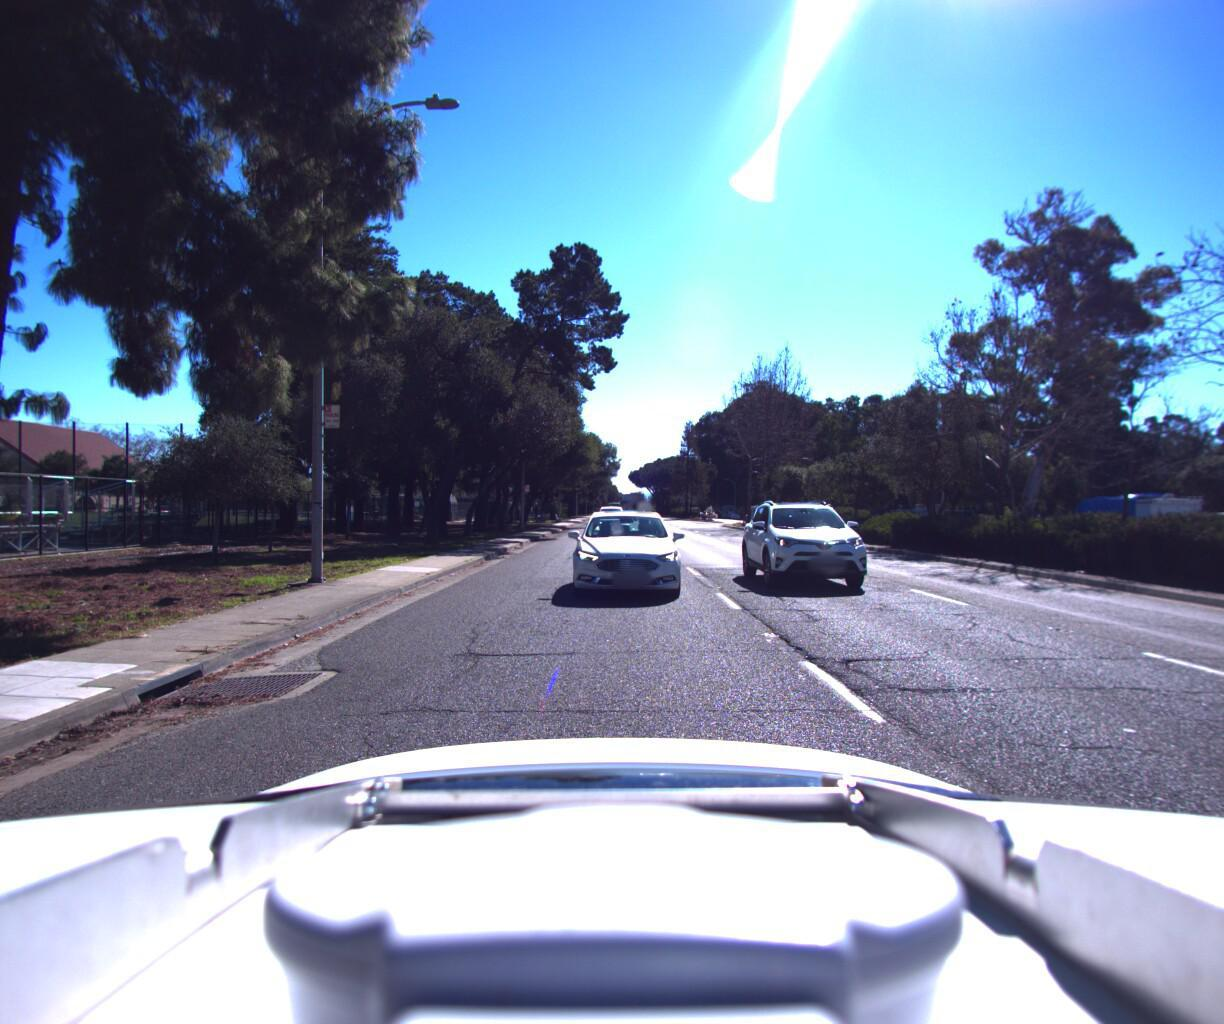car: (747, 491, 909, 599), (563, 503, 692, 611)
other_vehicle: (1065, 486, 1209, 558)
